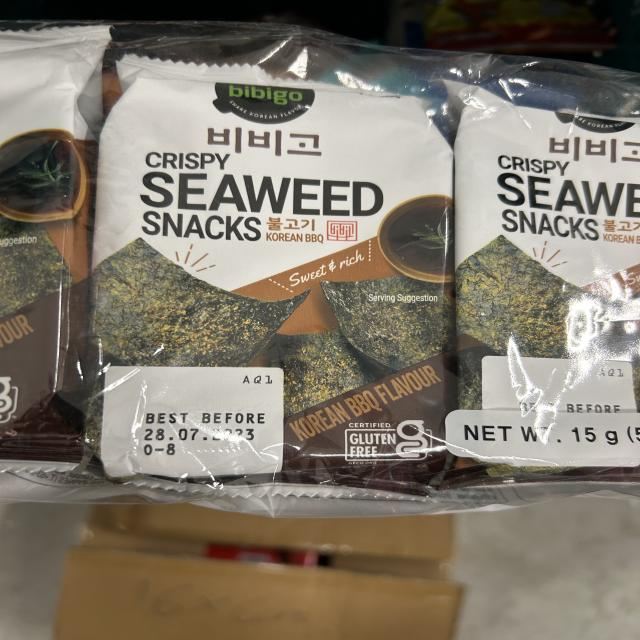object_name: (0, 32, 640, 486)
